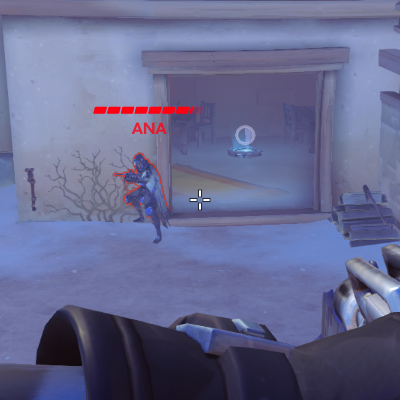hpbar: (93, 106, 204, 114)
